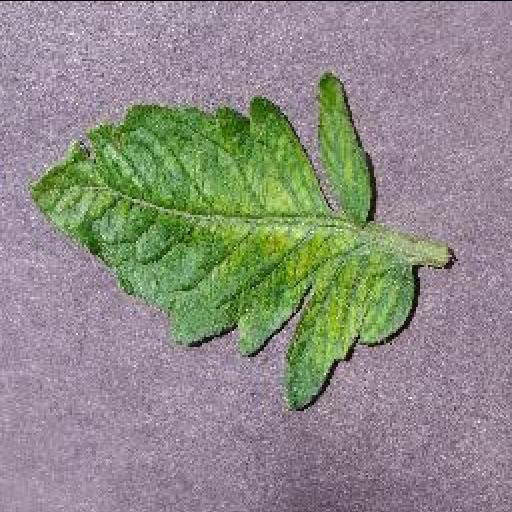Mosaic Virus: (28, 72, 418, 408)
